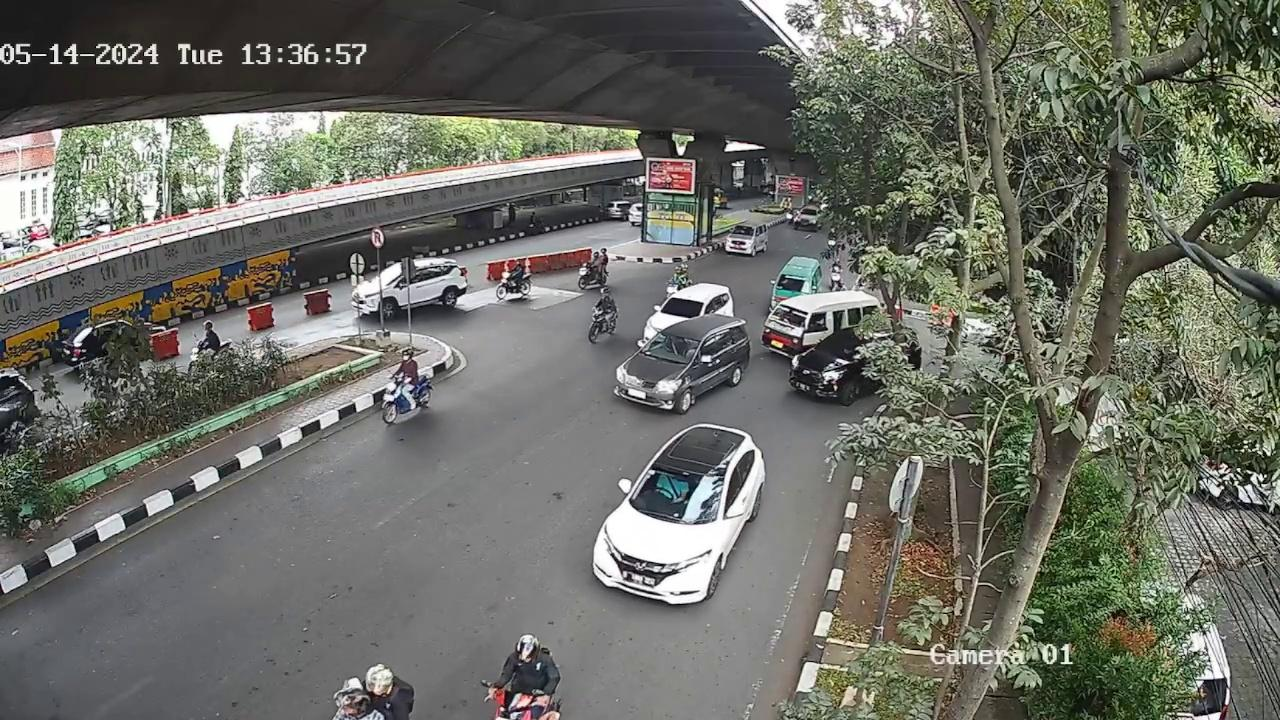pakai: (653, 472, 689, 505), (664, 339, 686, 356)
windshield: (631, 467, 724, 521), (635, 327, 700, 366), (657, 293, 704, 319)
